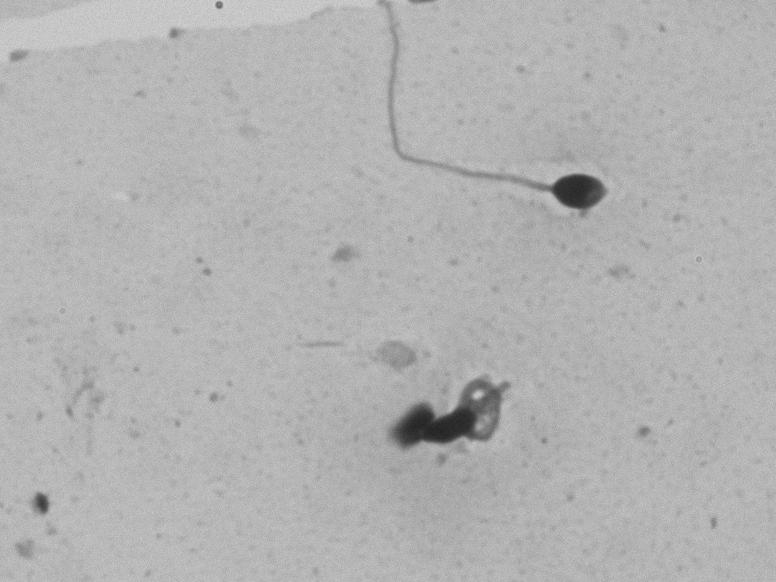Abnormal: (255, 25, 615, 259)
